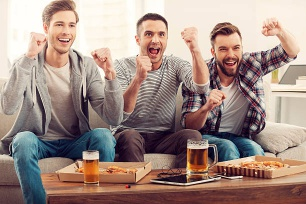male: (131, 13, 175, 69), (206, 20, 247, 78), (38, 5, 82, 55)
